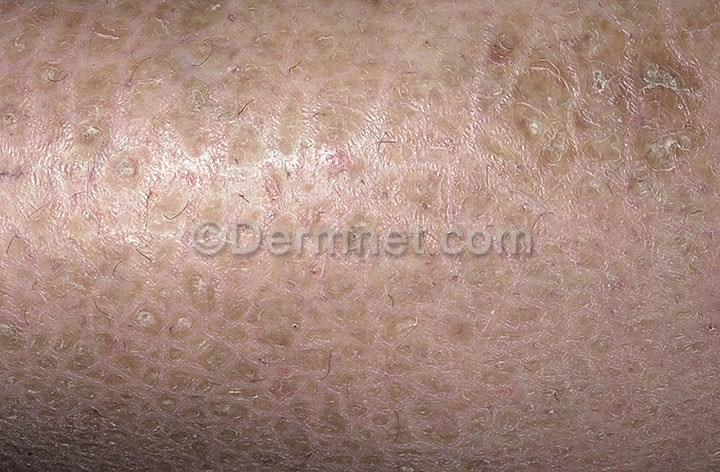excoriacion 1: (471, 9, 720, 238)
liquenificacion 1: (0, 0, 720, 472)
xerosis 3: (0, 0, 719, 471)
